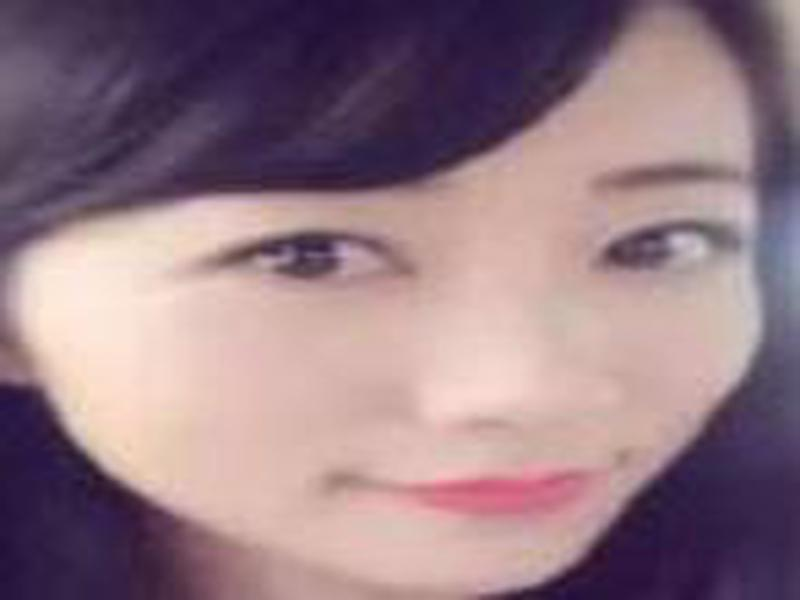without_mask: (17, 104, 768, 600)
